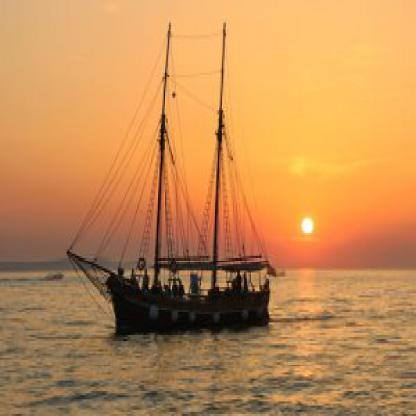fish-b: (58, 11, 286, 348)
